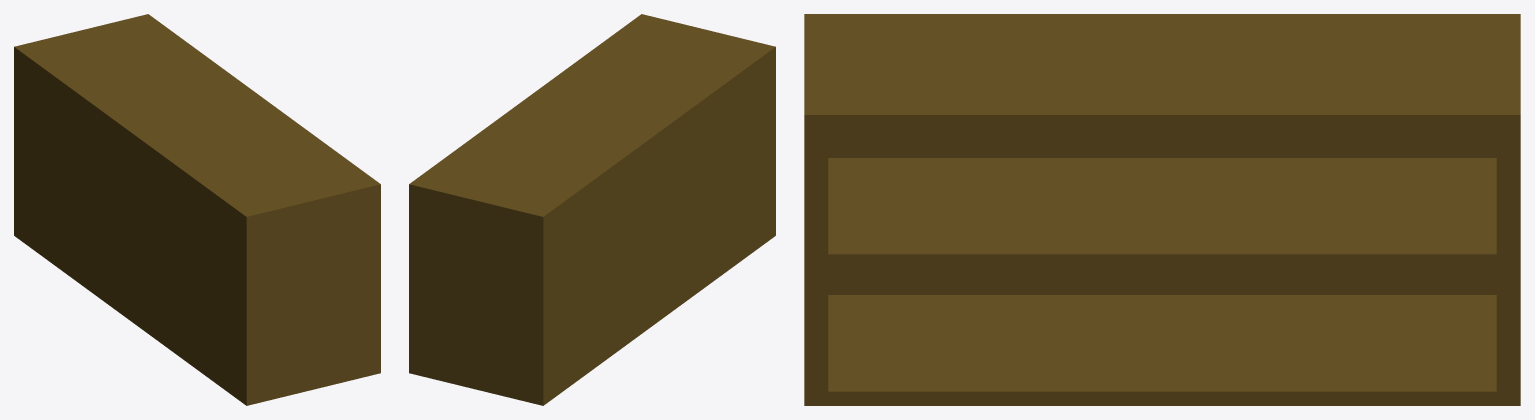
File: Counter.fbx
The picture shows the model from 3 angles, left to right: view 1: azimuth 30°, elevation 25°; view 2: azimuth 150°, elevation 25°; view 3: azimuth 270°, elevation 25°; orthographic projection. The views are drawn at different scales.
Parts seen in each view (by area): view 1: pCube291; view 2: pCube291; view 3: pCube291.
Boxes of the visible parts, x1,y1,x2,y2 form: pCube291: (14,14,380,405); pCube291: (409,14,775,405); pCube291: (804,14,1520,405).
Bounding box in the file's own units: 1 × 1.34 × 3.
